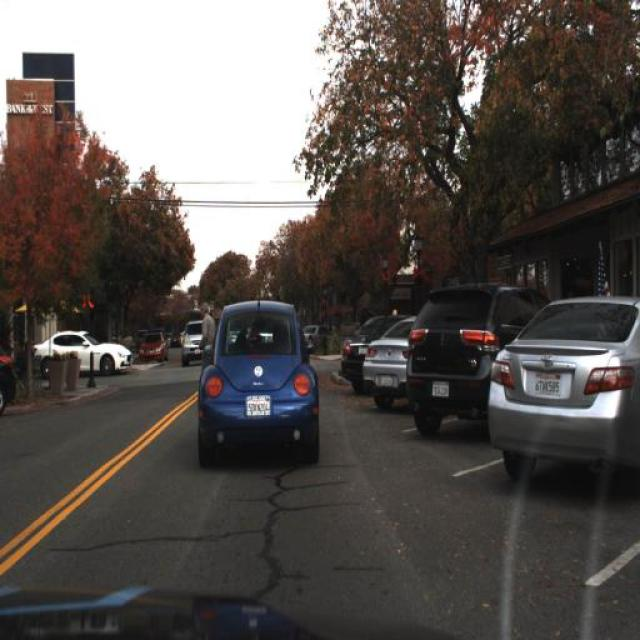car: (487, 293, 638, 485), (402, 283, 552, 445), (195, 292, 319, 472), (31, 326, 132, 383), (364, 317, 414, 412), (338, 316, 384, 394), (178, 319, 218, 367), (180, 317, 214, 364), (0, 333, 15, 412), (138, 325, 168, 364)
trafficLight: (194, 298, 220, 392)
